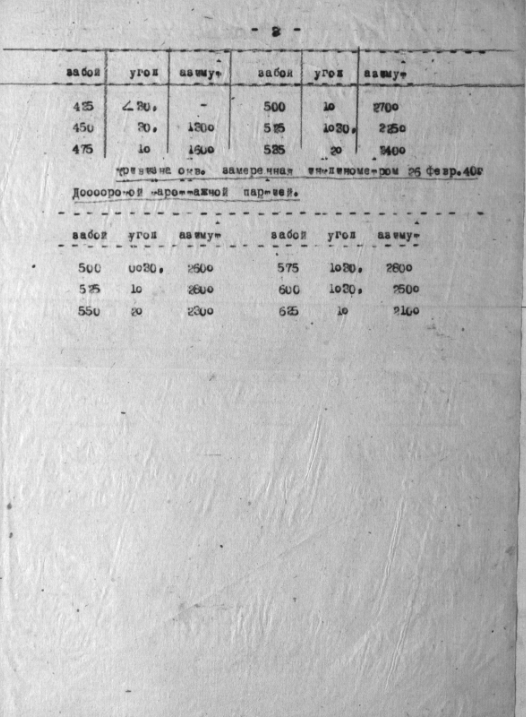Borderless: (2, 45, 526, 335)
